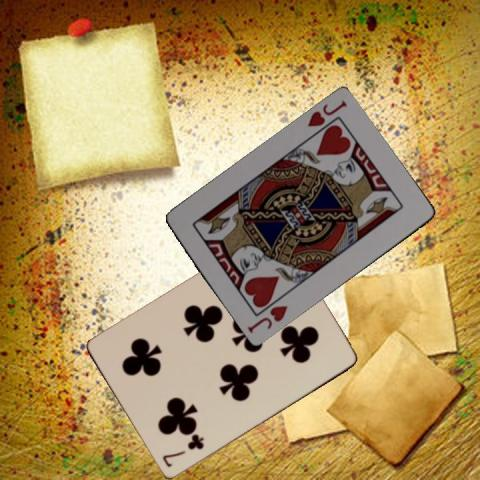7c: (160, 433, 206, 469)
Jh: (244, 303, 289, 335), (304, 98, 349, 130)
